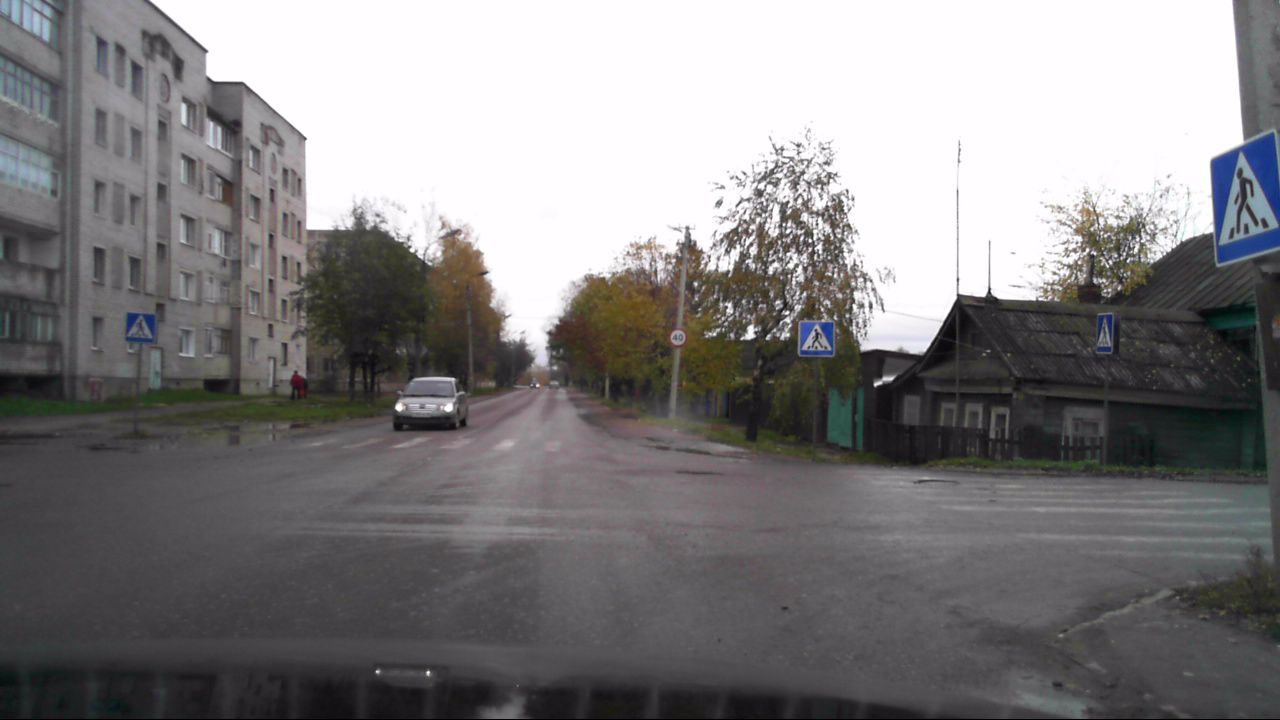speed_warning_40: (669, 327, 687, 346)
